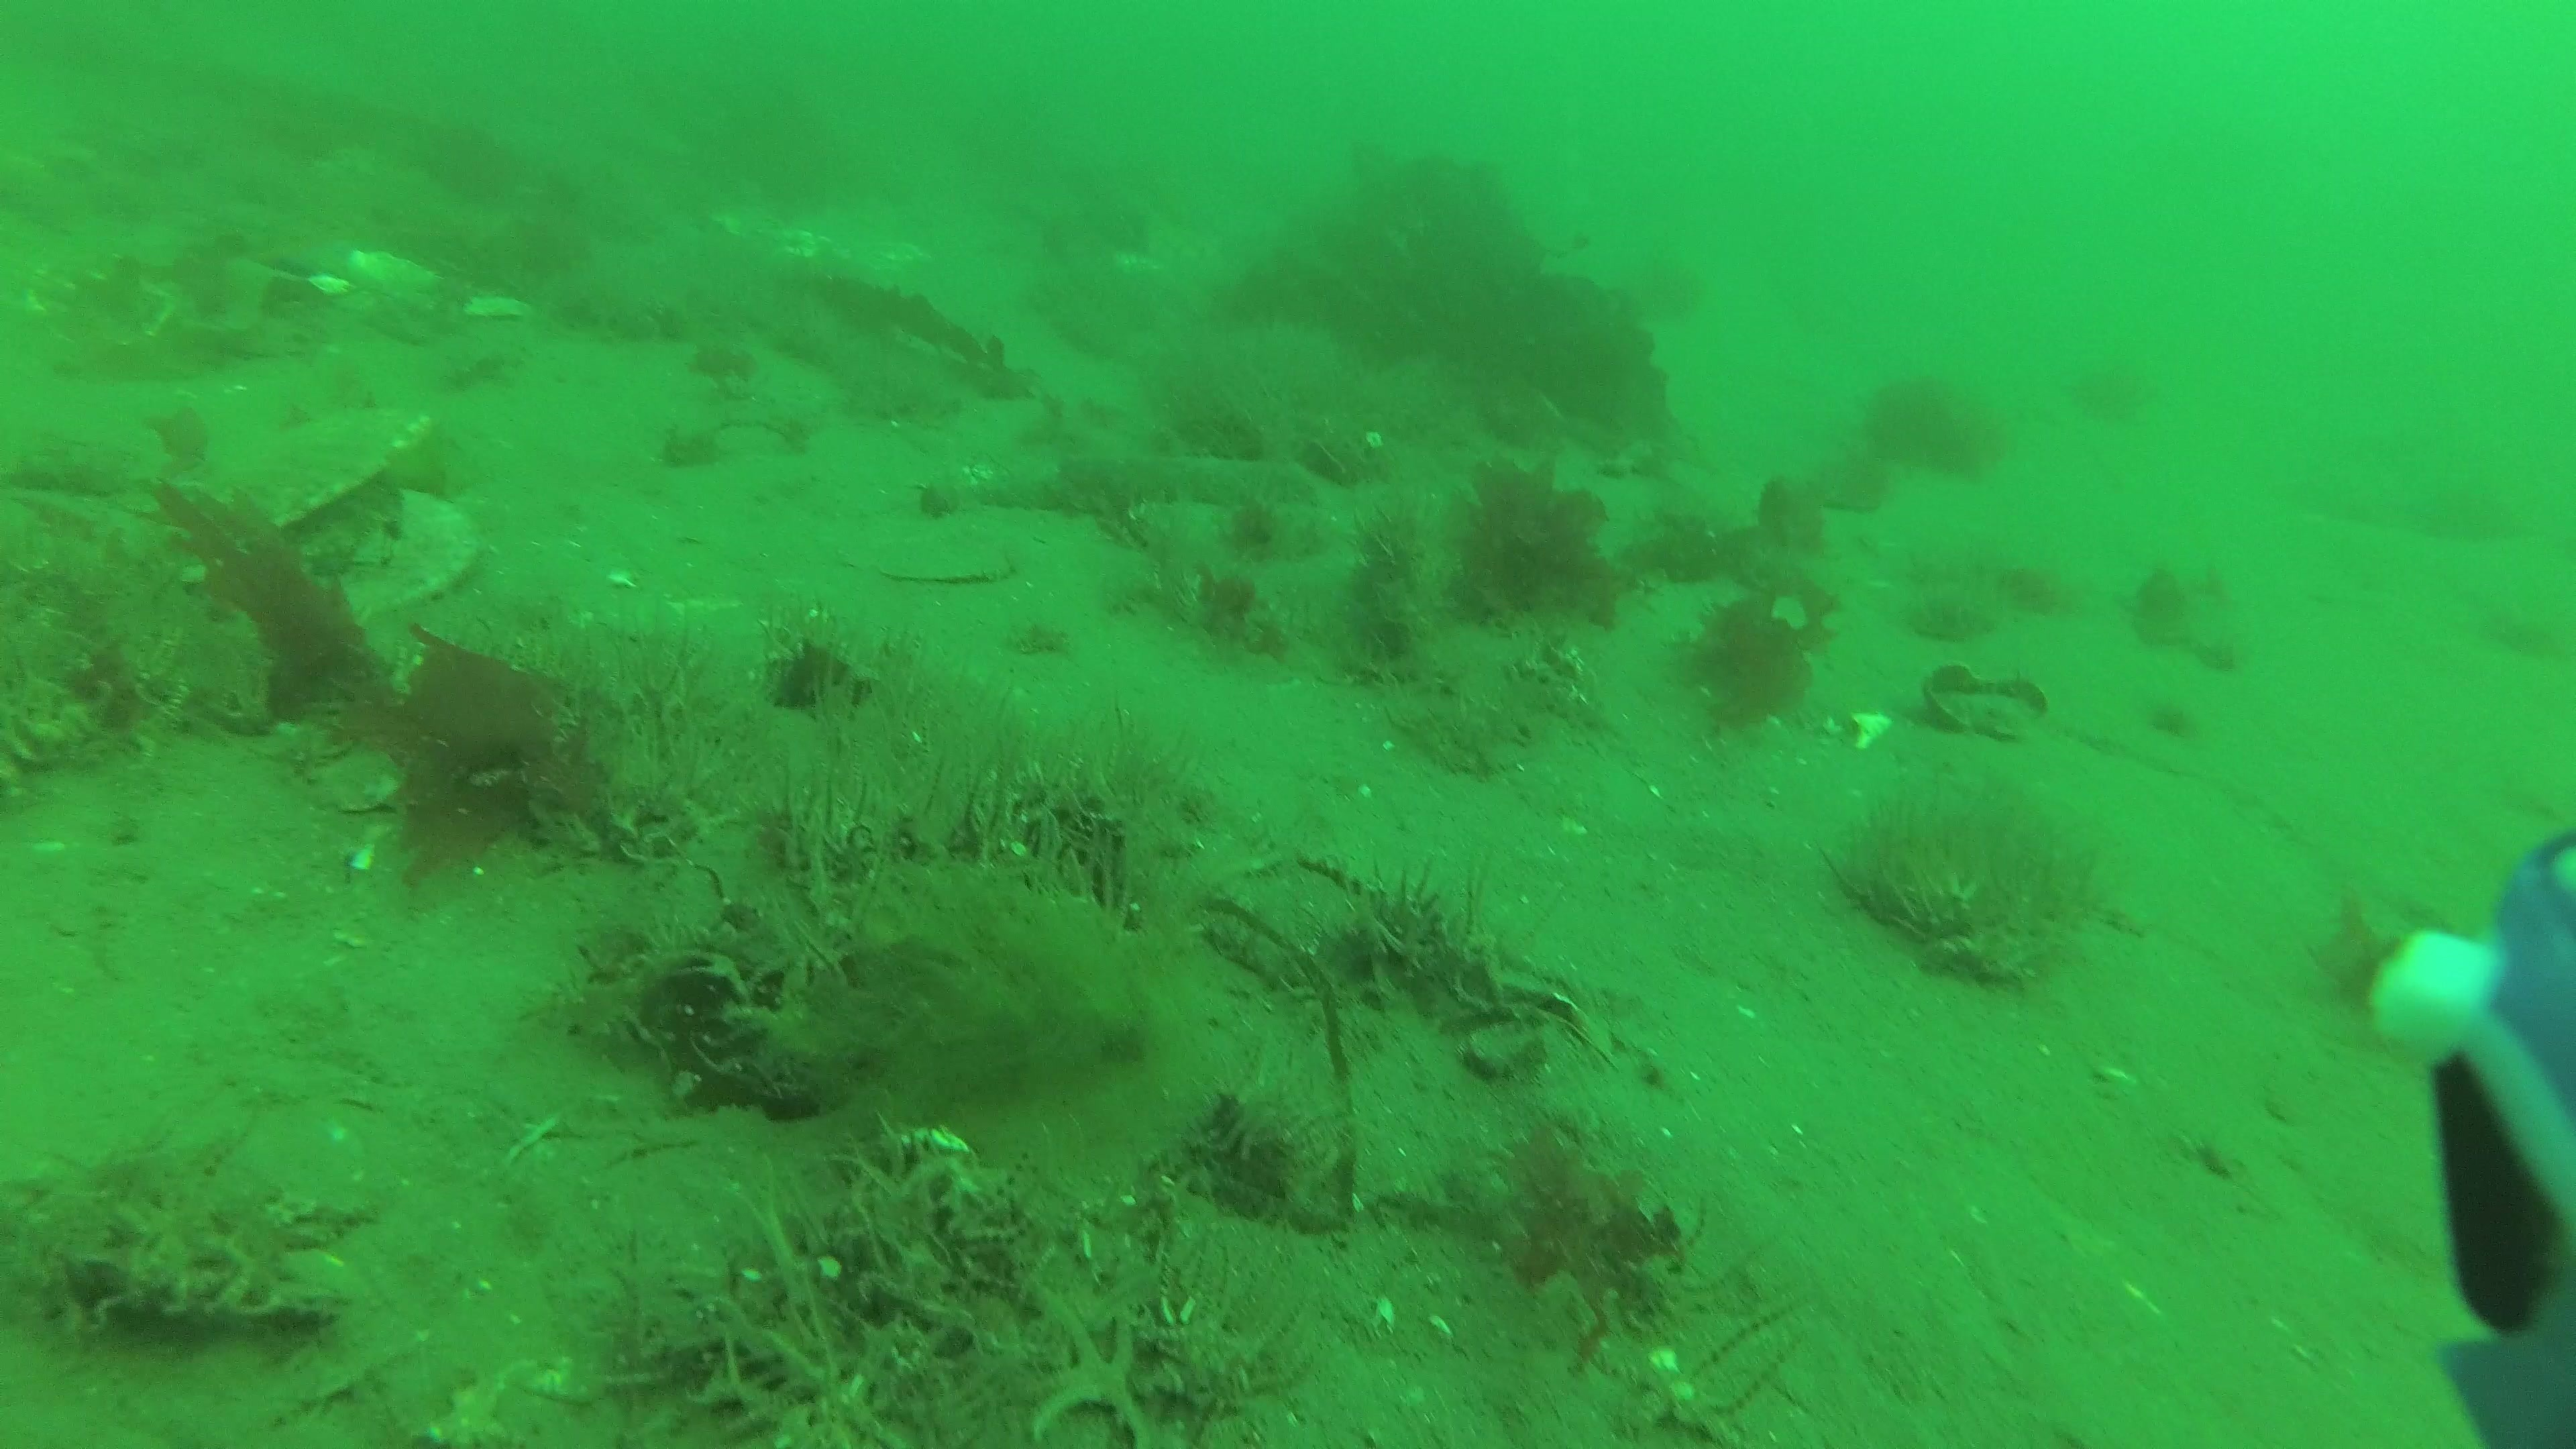scallop: (138, 405, 488, 646)
